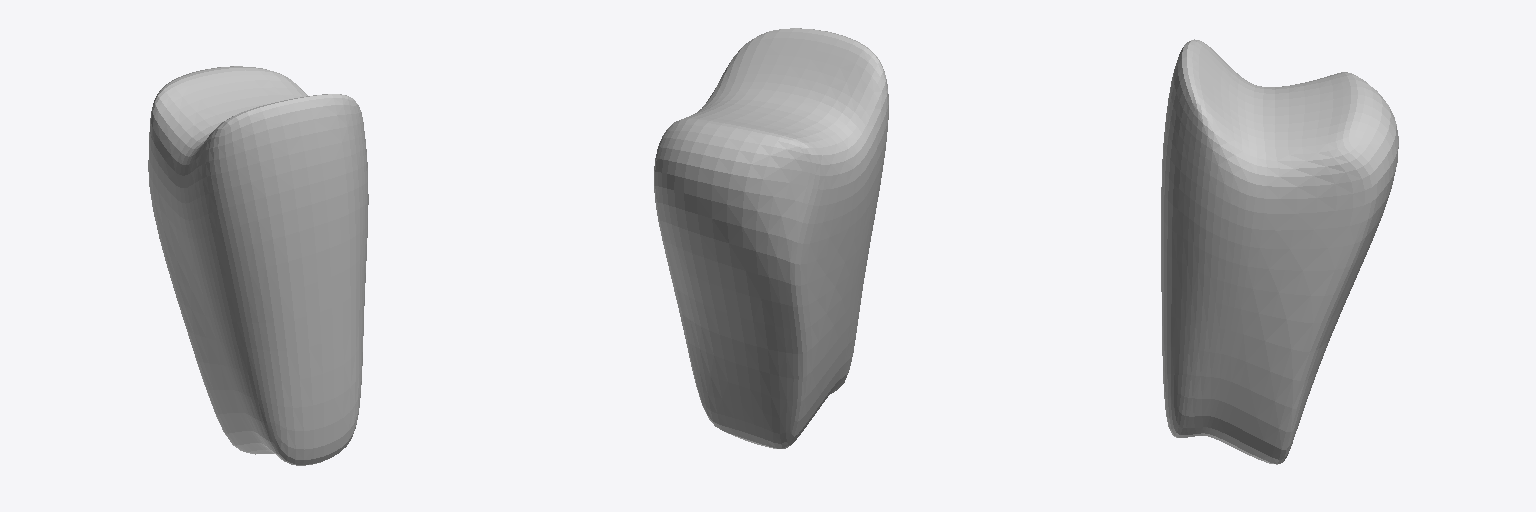
Rendered from f_ruleg.obj.
The picture shows the model from 3 angles: view 1: azimuth 30°, elevation 25°; view 2: azimuth 150°, elevation 25°; view 3: azimuth 270°, elevation 25°; orthographic projection.
Parts seen in each view (by area): view 1: pCube8; view 2: pCube8; view 3: pCube8.
Part boxes in pixels (left/top/right/bottom): pCube8: left=148, top=66, right=368, bottom=465; pCube8: left=654, top=28, right=888, bottom=448; pCube8: left=1161, top=39, right=1398, bottom=464.
Size of the model in its own units: 0.6844 by 1.48 by 0.8274.